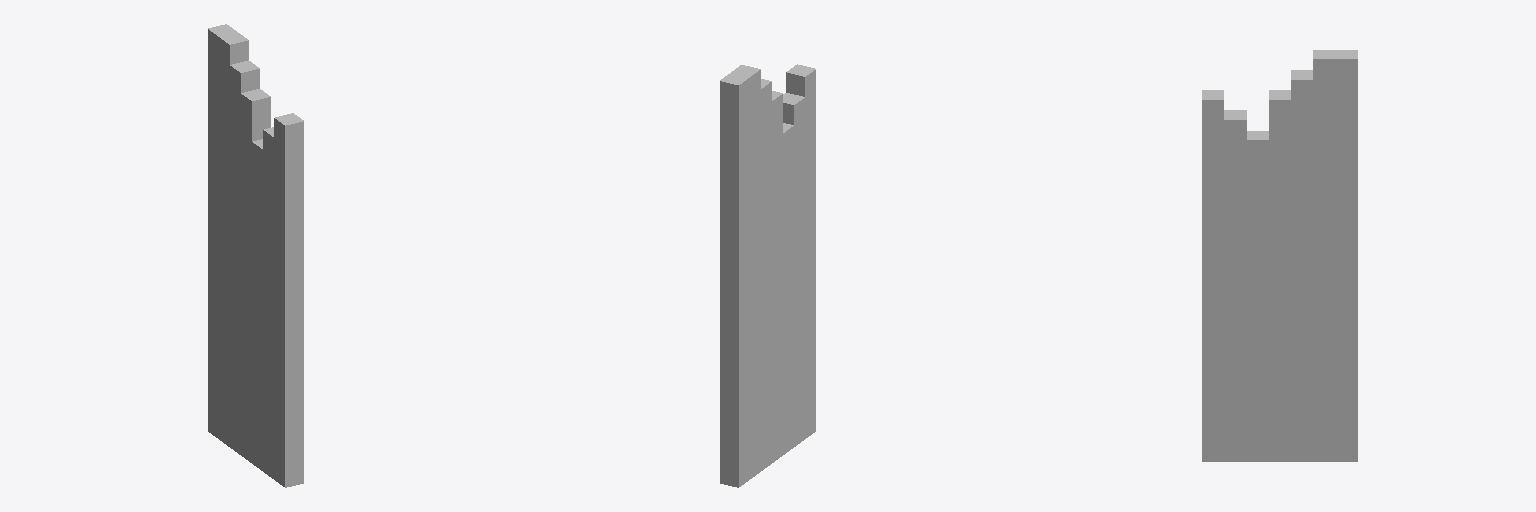
File: plank broken.obj
3 views of the same model, side by side, from view 1: azimuth 30°, elevation 25°; view 2: azimuth 150°, elevation 25°; view 3: azimuth 270°, elevation 25° (orthographic).
Parts seen in each view (by area): view 1: object 1; view 2: object 1; view 3: object 1.
Part boxes in pixels (bbox=[...]): object 1: bbox=[208, 24, 303, 487]; object 1: bbox=[720, 64, 815, 487]; object 1: bbox=[1202, 50, 1357, 461].
Size of the model in its own units: 0.1 by 2 by 0.7.